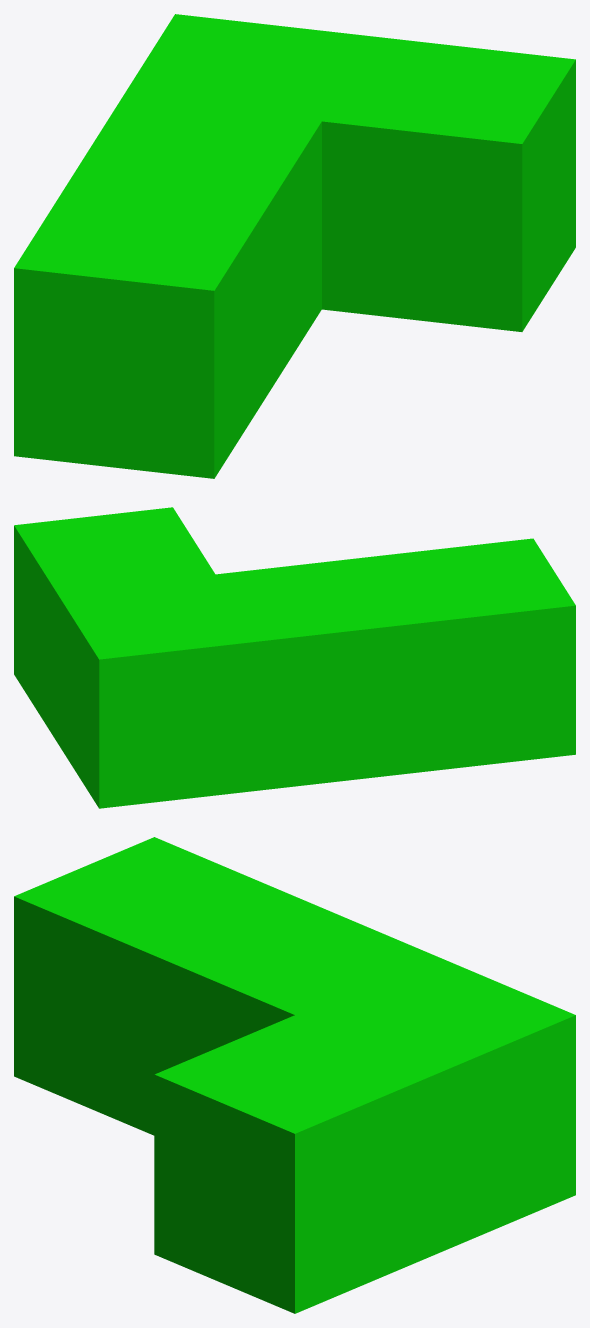
Rendered from R4_deblis4.dae.
The picture shows the model from 3 angles, top to bottom: view 1: azimuth 30°, elevation 25°; view 2: azimuth 150°, elevation 25°; view 3: azimuth 270°, elevation 25°; orthographic projection. The views are drawn at different scales.
Parts seen in each view (by area): view 1: Group1_002; view 2: Group1_002; view 3: Group1_002.
Part boxes in pixels (x1=…): Group1_002: x1=14, y1=14, x2=575, y2=478; Group1_002: x1=14, y1=507, x2=575, y2=808; Group1_002: x1=14, y1=837, x2=575, y2=1313.
Bounding box in the file's own units: 0.0884 × 0.0707 × 0.025.
